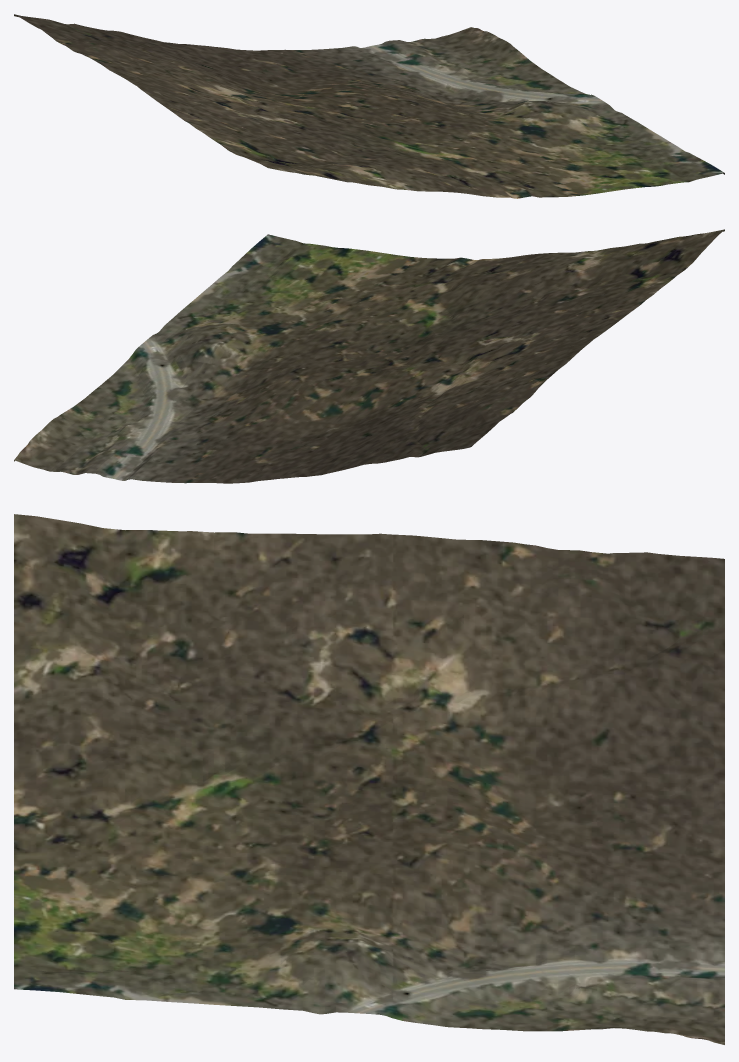
3 renders of one model, top to bottom at view 1: azimuth 30°, elevation 25°; view 2: azimuth 150°, elevation 25°; view 3: azimuth 270°, elevation 25°, orthographic. The views are drawn at different scales.
Size of the model in its own units: 250 by 84.21 by 241.
Materials: 1 (1 with a texture image).
